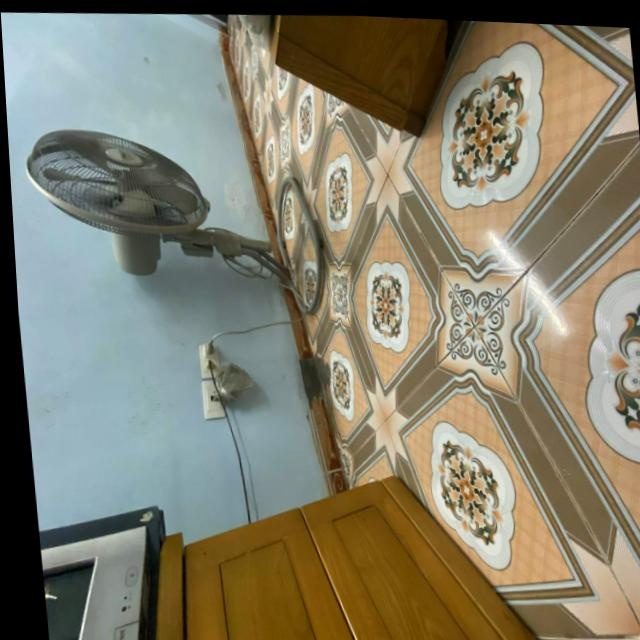outlet: (201, 377, 226, 419), (197, 341, 220, 378)
